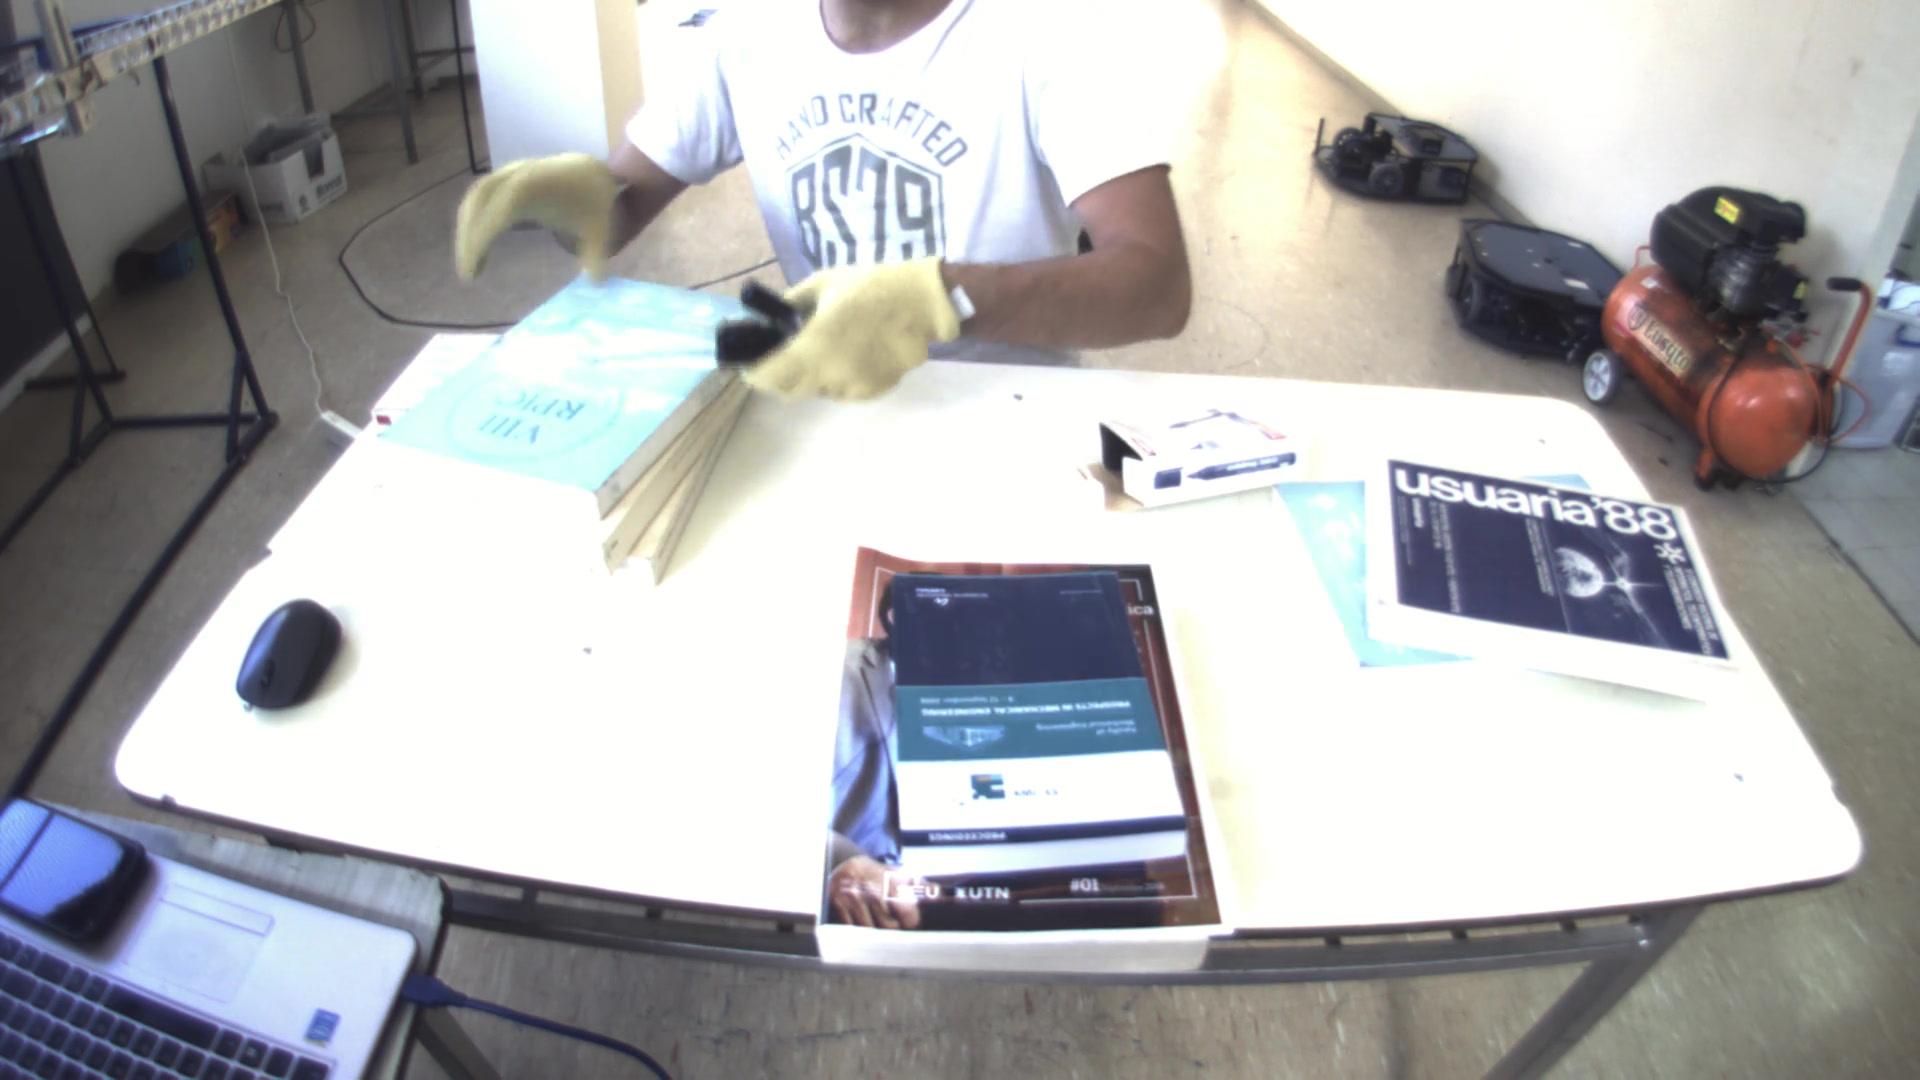hand: (709, 244, 971, 407), (436, 141, 615, 274)
